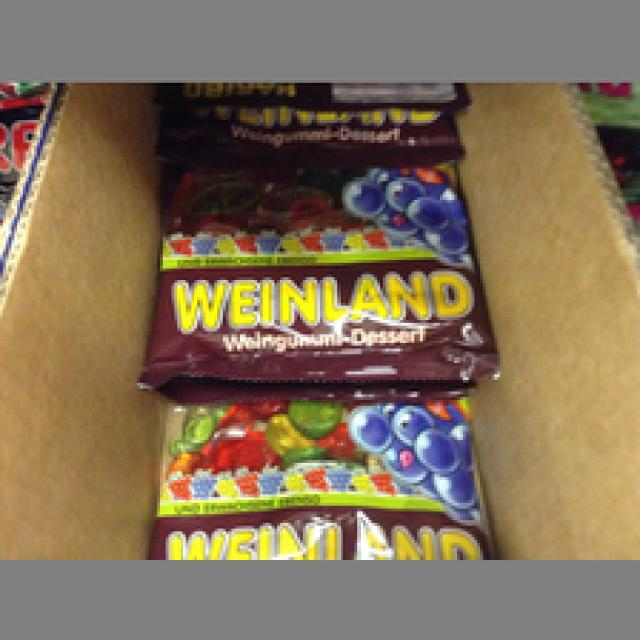groceries: (160, 157, 483, 392), (154, 403, 483, 548)
